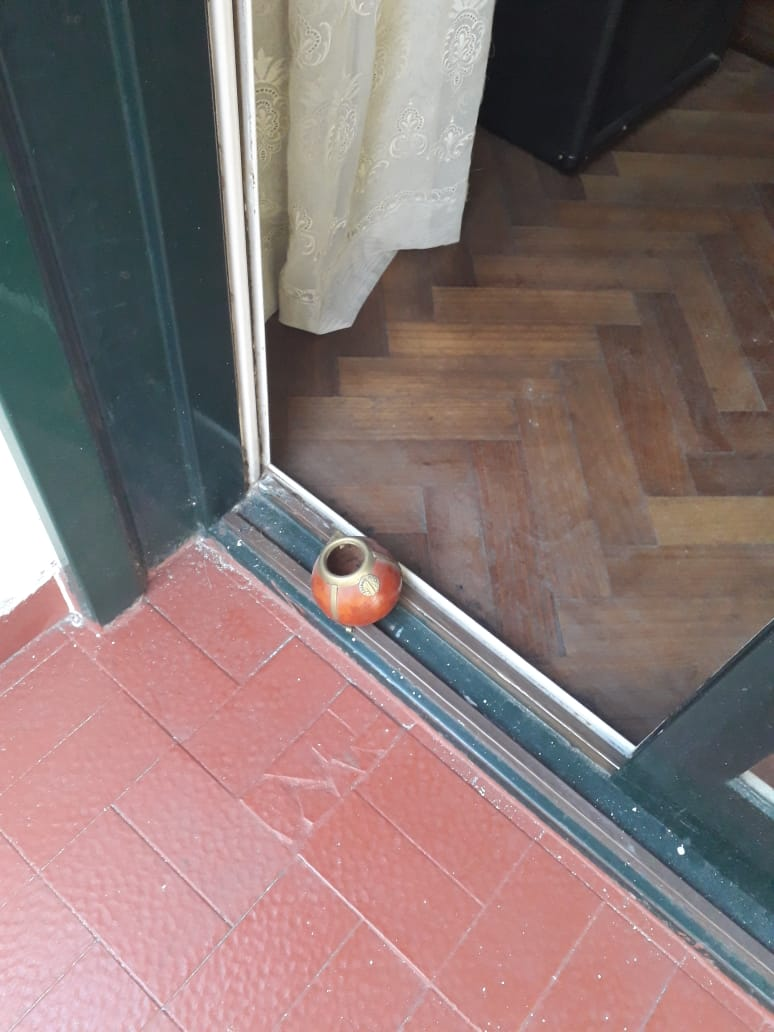calabaza: (306, 533, 402, 626)
mate: (308, 535, 404, 628)
